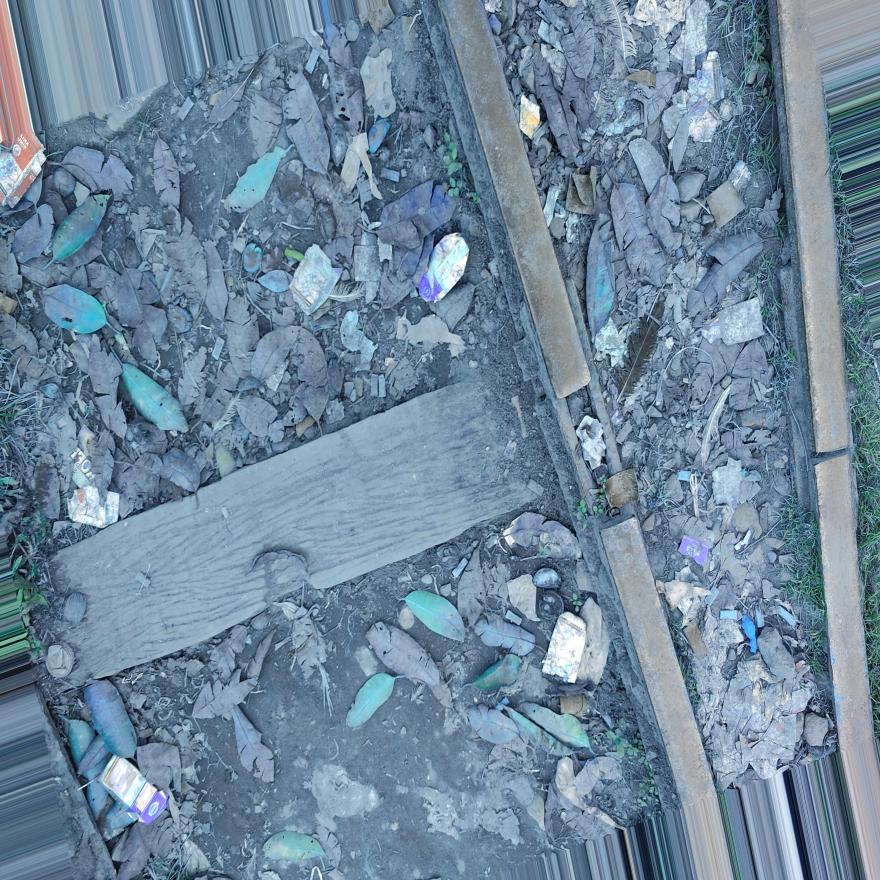railway-gap: (528, 365, 661, 549), (801, 412, 864, 498)
